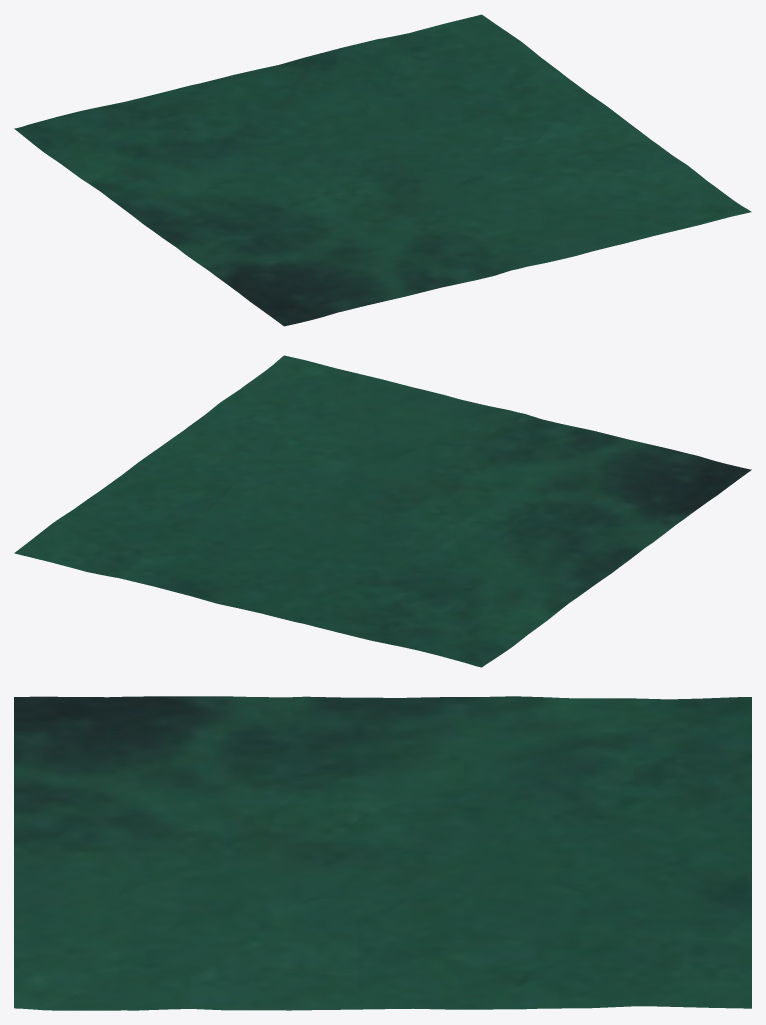
The picture shows the model from 3 angles, top to bottom: view 1: azimuth 30°, elevation 25°; view 2: azimuth 150°, elevation 25°; view 3: azimuth 270°, elevation 25°; orthographic projection. The views are drawn at different scales.
Size of the model in its own units: 52.22 by 0.4603 by 52.22.
3 materials, 3 textured.
